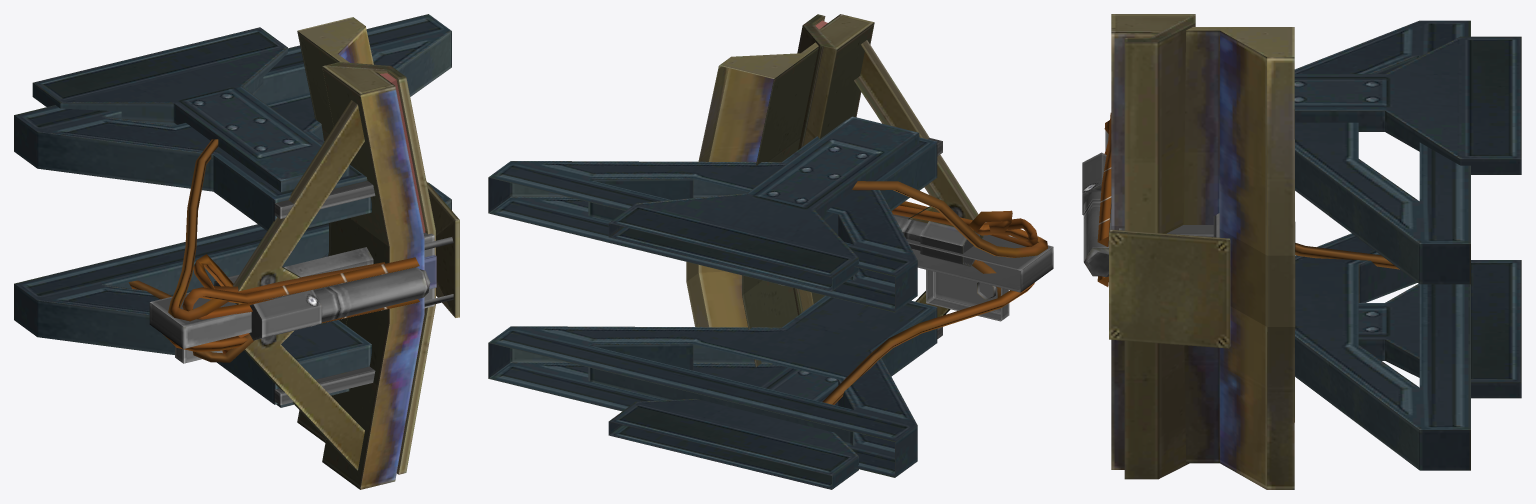
The model's file is trap_124_eradio.glb.
The picture shows the model from 3 angles, left to right: view 1: azimuth 30°, elevation 25°; view 2: azimuth 150°, elevation 25°; view 3: azimuth 270°, elevation 25°; orthographic projection. The views are drawn at different scales.
Parts seen in each view (by area): view 1: S_Trap_124_eradio; view 2: S_Trap_124_eradio; view 3: S_Trap_124_eradio.
Part boxes in pixels (x1,y1,x2,y2): S_Trap_124_eradio: (14,14,459,489); S_Trap_124_eradio: (488,14,1053,489); S_Trap_124_eradio: (1082,14,1521,489).
Bounding box in the file's own units: 0.956 × 0.8722 × 0.7939.
Materials: 1 (1 with a texture image).
